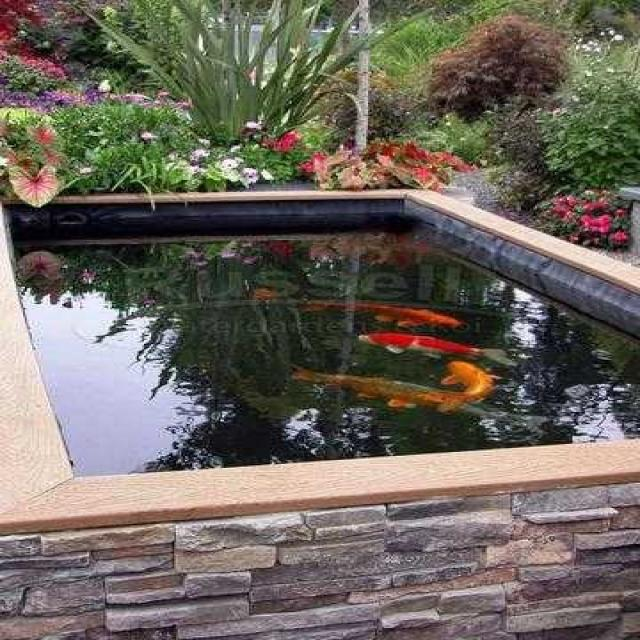Ponds: (3, 192, 640, 537)
